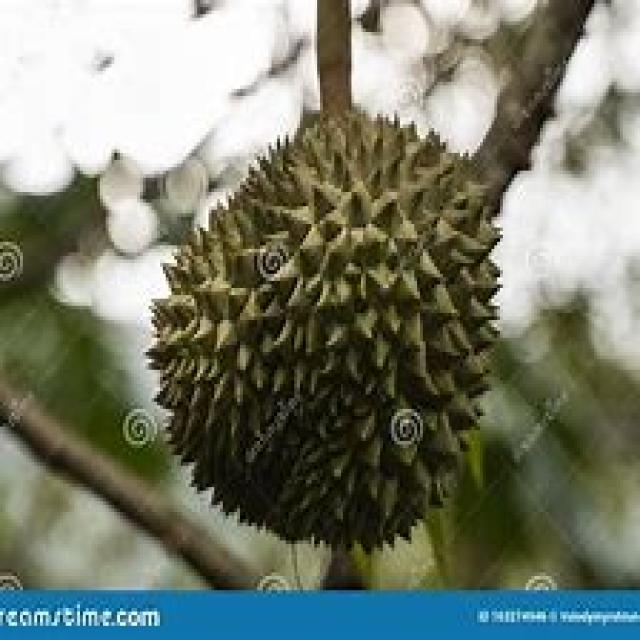mature: (150, 112, 499, 550)
